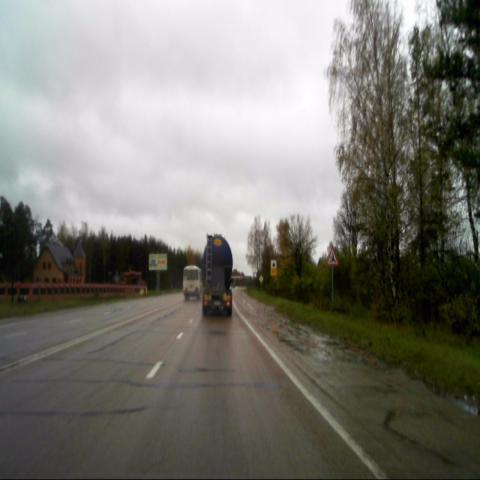1_30: (326, 243, 341, 269)
